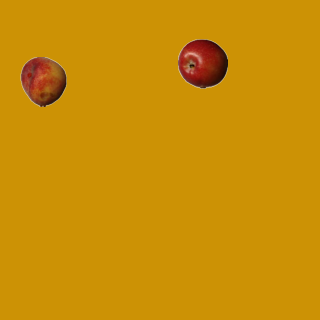Apple Braeburn: (177, 38, 227, 88)
Peach: (18, 56, 68, 106)
